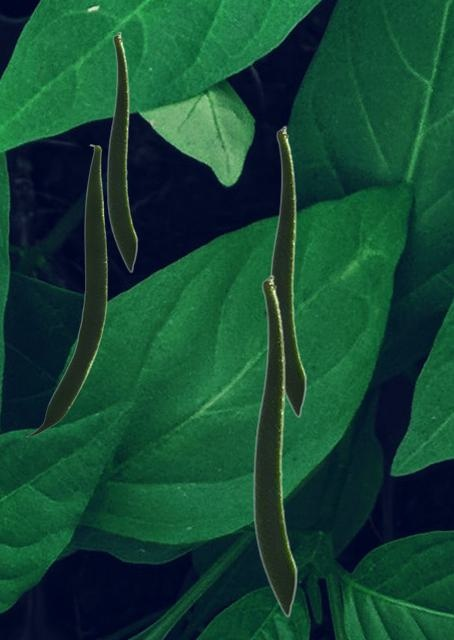french_bean: (25, 144, 106, 436), (252, 274, 297, 617), (268, 125, 306, 417), (106, 31, 137, 272)
